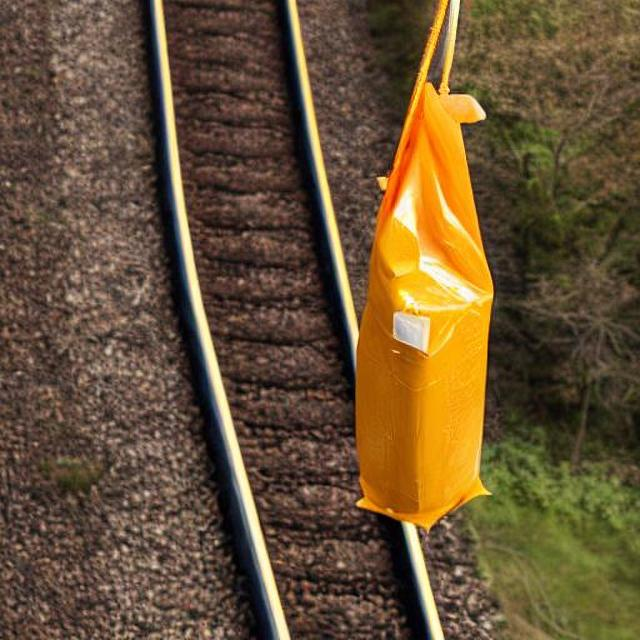floating object: (355, 32, 493, 531)
